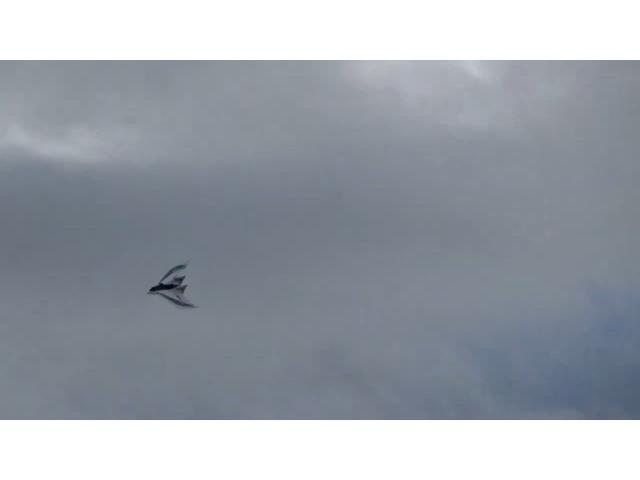Anti-Drone: (146, 259, 200, 311)
